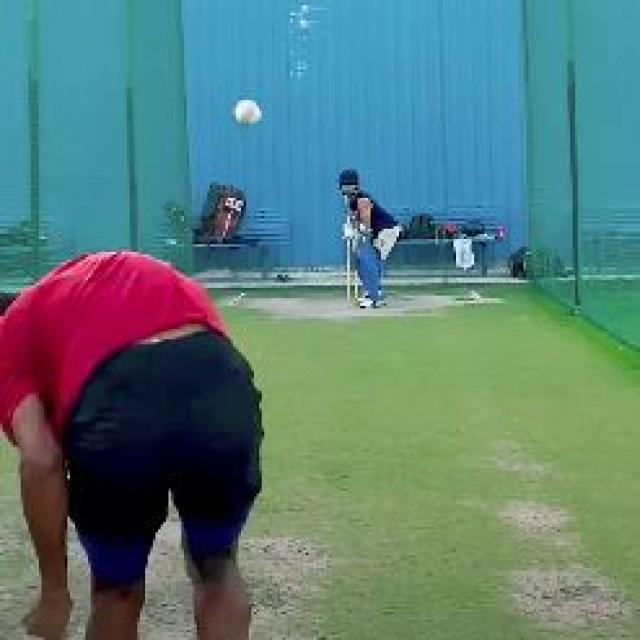ball: (230, 94, 269, 134)
